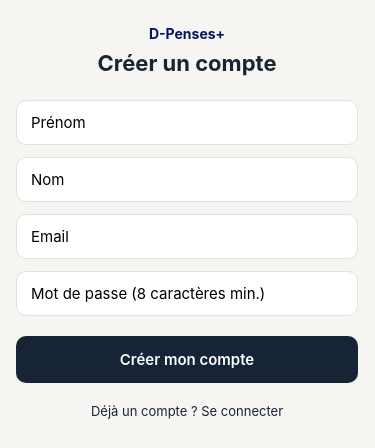
mot de passe trop court (400) → message backend affiché tel quel
This screenshot has width=375, height=448.
Type "Test" into the field with placeholder "Prénom". click: (187, 122)
box: left=16, top=100, right=358, bottom=145
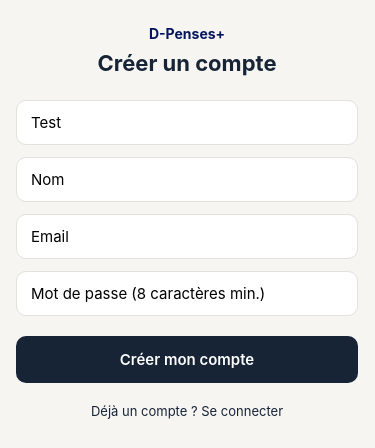
Type "User" into the field with placeholder "Nom". click: (187, 180)
box: left=16, top=157, right=358, bottom=202
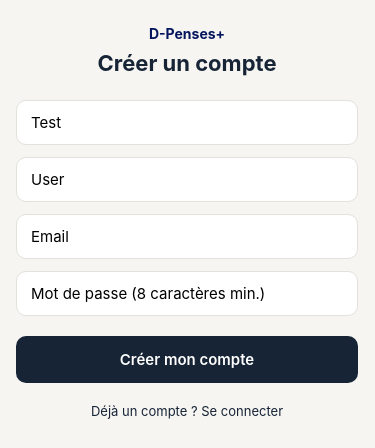
Type "test.user@example.com" into the field with placeholder "Email". click: (187, 236)
box: left=16, top=214, right=358, bottom=259
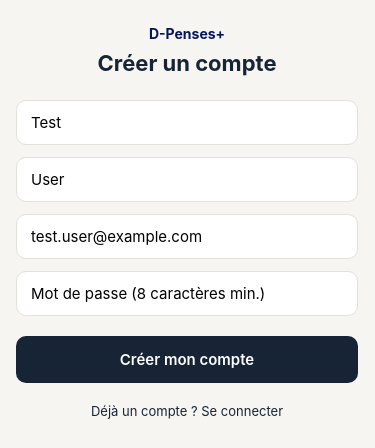
Type "password123" into the password field with placeholder "Mot de passe (8 caractères min.)". click: (187, 294)
box: left=16, top=271, right=358, bottom=316
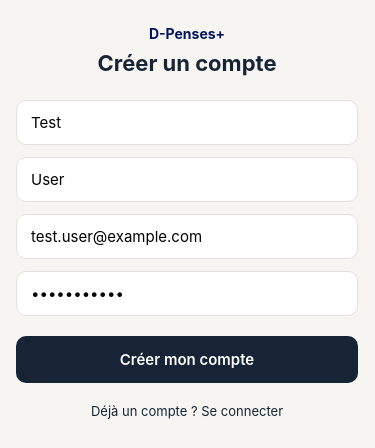
Click the text "Créer mon compte". click: click(187, 360)
box: left=120, top=350, right=254, bottom=369
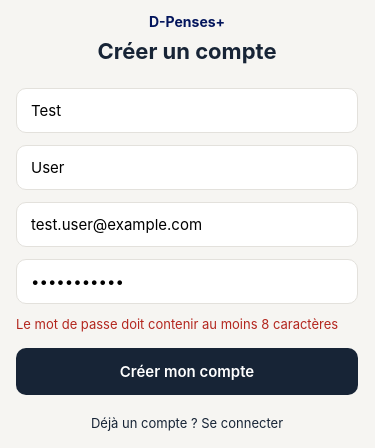
Expected: the text "Le mot de passe doit contenir au moins 8 caractères" is shown, left=16, top=316, right=358, bottom=332
